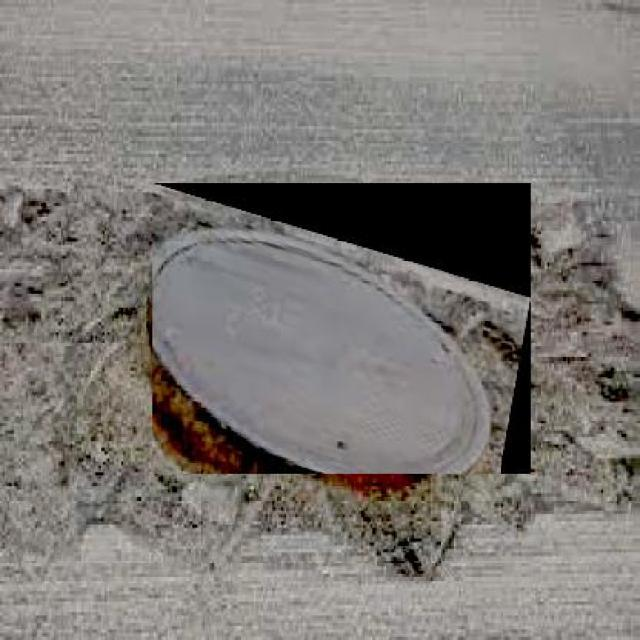Manhole: (152, 183, 531, 474)
Pothole: (60, 478, 594, 599), (0, 190, 150, 506), (527, 183, 639, 514)
